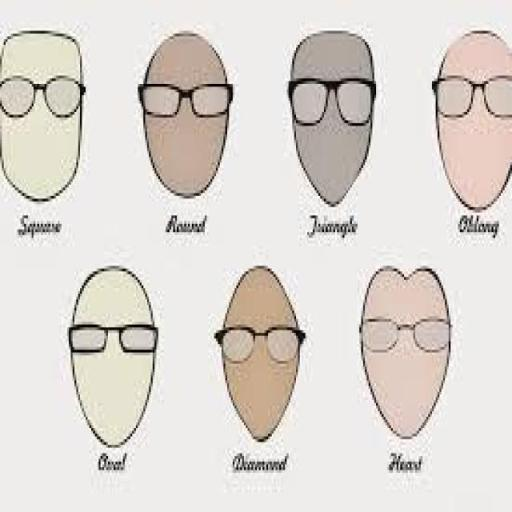glasses: (206, 316, 312, 375), (352, 306, 458, 365), (61, 310, 166, 366), (280, 72, 379, 130), (138, 67, 234, 126), (424, 64, 512, 126), (2, 71, 86, 127)
